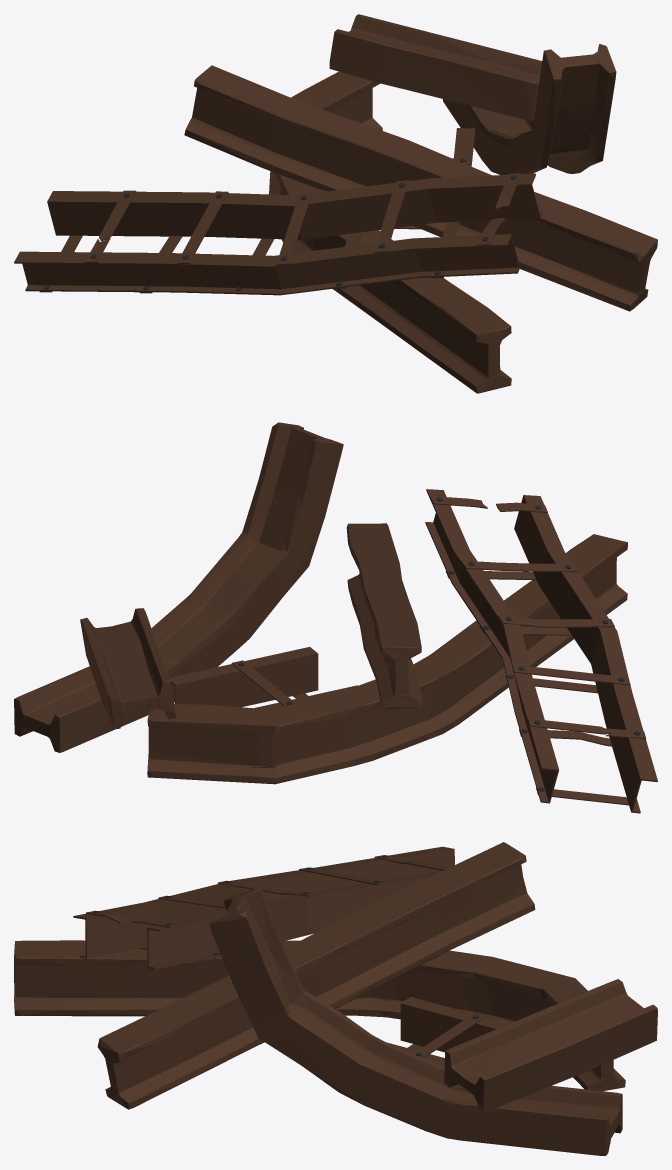
File: SM_Scrap_Metal_02.glb
3 renders of one model, top to bottom at view 1: azimuth 30°, elevation 25°; view 2: azimuth 150°, elevation 25°; view 3: azimuth 270°, elevation 25°, orthographic. The views are drawn at different scales.
Parts seen in each view (by area): view 1: SM_Scrap_Metal_02; view 2: SM_Scrap_Metal_02; view 3: SM_Scrap_Metal_02.
Part boxes in pixels (x1,y1,x2,y2): SM_Scrap_Metal_02: (14, 14, 657, 393); SM_Scrap_Metal_02: (14, 422, 657, 813); SM_Scrap_Metal_02: (14, 842, 657, 1155).
Bounding box in the file's own units: 1.31 × 0.4562 × 1.28.
1 material, 1 textured.
